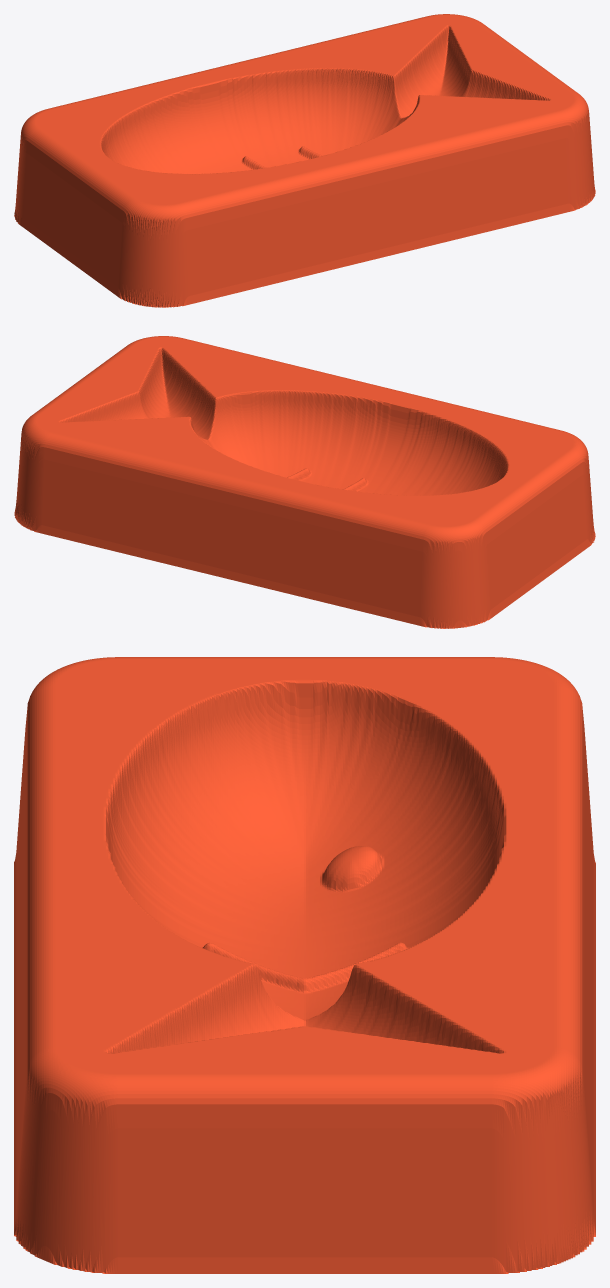
File: mold.glb
The picture shows the model from 3 angles, top to bottom: view 1: azimuth 30°, elevation 25°; view 2: azimuth 150°, elevation 25°; view 3: azimuth 270°, elevation 25°; orthographic projection. The views are drawn at different scales.
Parts seen in each view (by area): view 1: geometry_0; view 2: geometry_0; view 3: geometry_0.
Boxes of the visible parts, x1,y1,x2,y2 form: geometry_0: (14,14,595,307); geometry_0: (14,336,595,628); geometry_0: (14,657,595,1273).
Size of the model in its own units: 0.0924 by 0.0175 by 0.0506.
